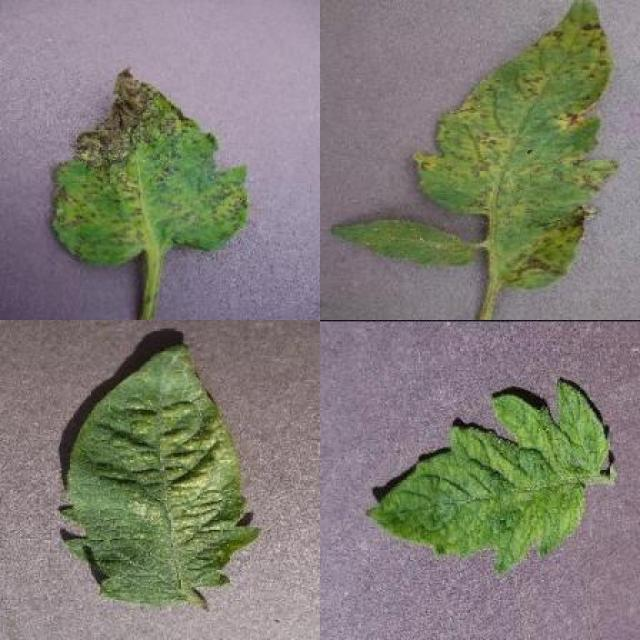Mosaic Virus: (366, 379, 608, 574)
Septoria: (413, 1, 618, 290), (52, 68, 252, 265)
Spider Mites: (61, 344, 259, 604)
